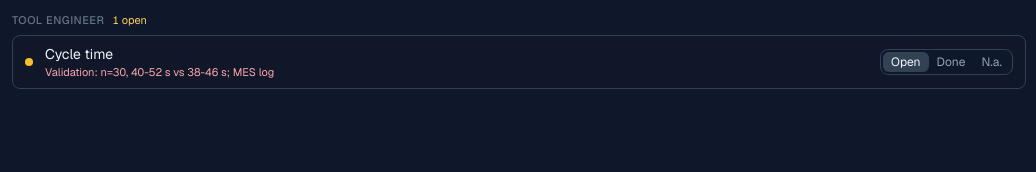
Test: ReleaseChecklist › A5-09: an unchanged cycle time is refused while the measurement is outside its limits
Expected: the text with test id "release-check-cycle_time_tool-measurement" shows "40-52 s", x1=100 y1=64 x2=274 y2=78
Click the radio button with test id "release-check-cycle_time_tool-done" at (951, 62), box x1=929 y1=52 x2=973 y2=72
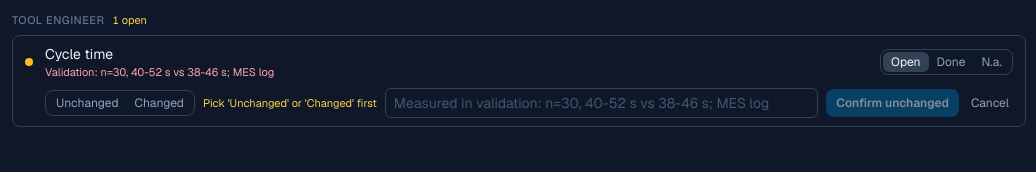
Click the radio button with test id "release-check-cycle_time_tool-unchanged" at (87, 103), box x1=48 y1=93 x2=126 y2=113
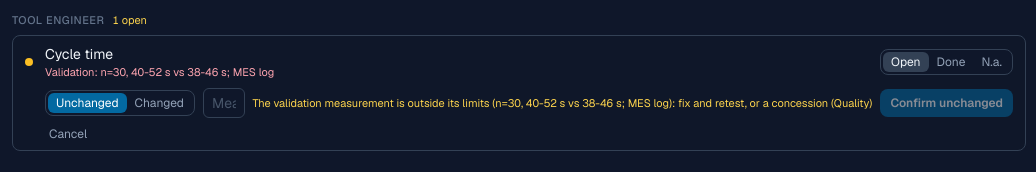
Expected: the button with test id "release-check-cycle_time_tool-confirm" is disabled, x1=880 y1=89 x2=1013 y2=117
Expected: the text with test id "release-check-cycle_time_tool-why" shows "outside its limits", x1=252 y1=96 x2=872 y2=110
